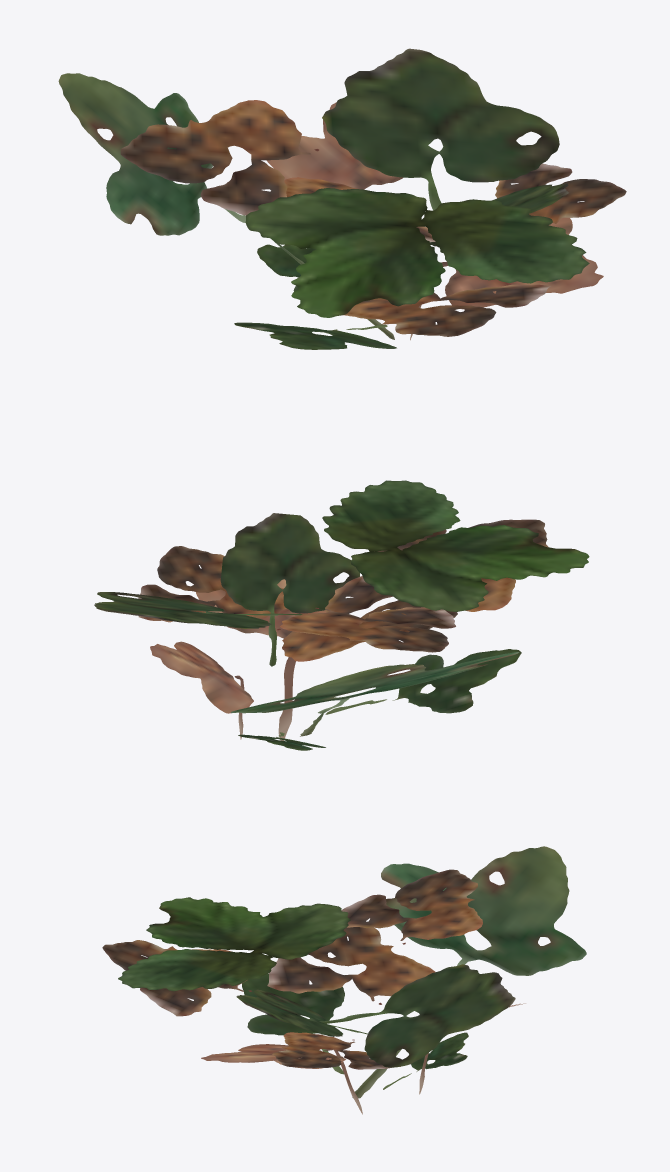
Rendered from arden_forest_strawberry_03_foliage.fbx.
3 views of the same model, one above another, from view 1: azimuth 30°, elevation 25°; view 2: azimuth 150°, elevation 25°; view 3: azimuth 270°, elevation 25° (orthographic). The views are drawn at different scales.
Visible parts, largest first — view 1: arden_forest_strawberry_03_foliage; view 2: arden_forest_strawberry_03_foliage; view 3: arden_forest_strawberry_03_foliage.
Boxes of the visible parts, x1=… form: arden_forest_strawberry_03_foliage: x1=58, y1=48, x2=626, y2=349; arden_forest_strawberry_03_foliage: x1=94, y1=480, x2=589, y2=750; arden_forest_strawberry_03_foliage: x1=102, y1=846, x2=586, y2=1114.
Size of the model in its own units: 35.14 by 16.29 by 45.28.
